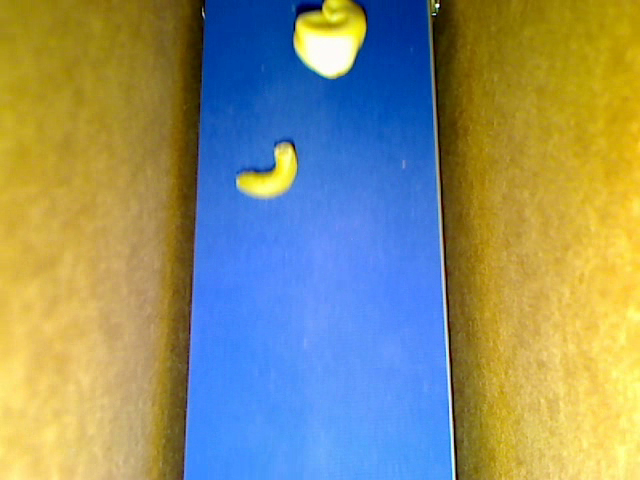elbow: (234, 142, 296, 200)
tortellini: (293, 1, 366, 81)
